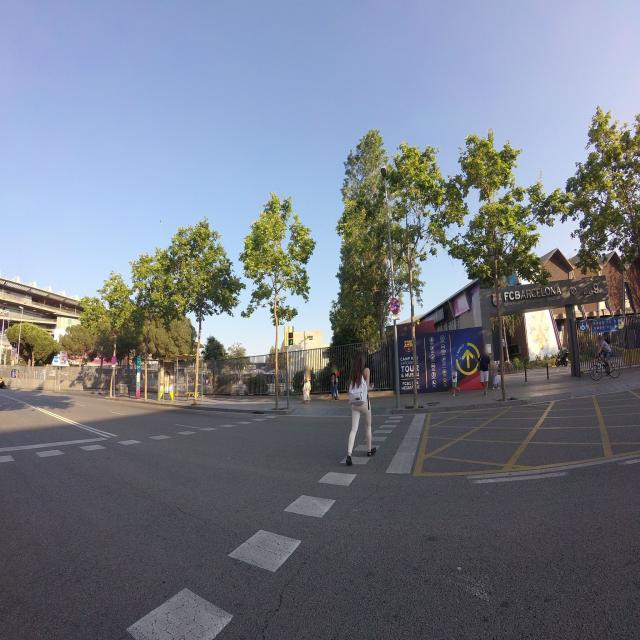bike: (590, 347, 620, 380)
car: (555, 347, 571, 368), (0, 373, 6, 389)
